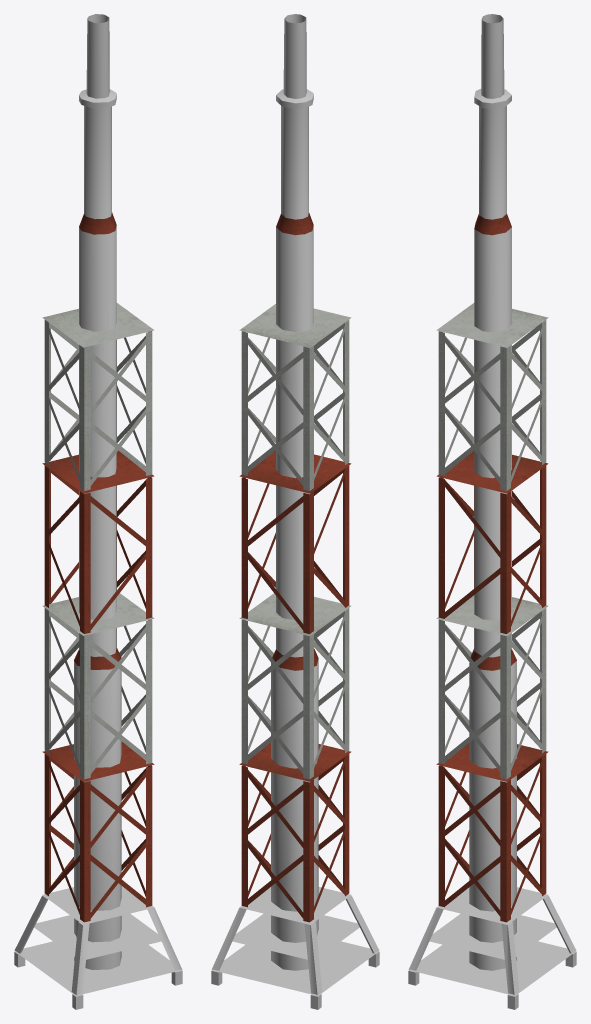
File: smoke_tower01_LOD1.fbx
3 renders of one model, left to right at view 1: azimuth 30°, elevation 25°; view 2: azimuth 150°, elevation 25°; view 3: azimuth 330°, elevation 25°, orthographic.
Visible parts, largest first — view 1: Mesh_Object; view 2: Mesh_Object; view 3: Mesh_Object.
Part boxes in pixels (<box>): Mesh_Object: <box>14,14,182,1009</box>; Mesh_Object: <box>211,14,379,1009</box>; Mesh_Object: <box>408,14,576,1009</box>.
Size of the model in its own units: 501 by 4277 by 501.
